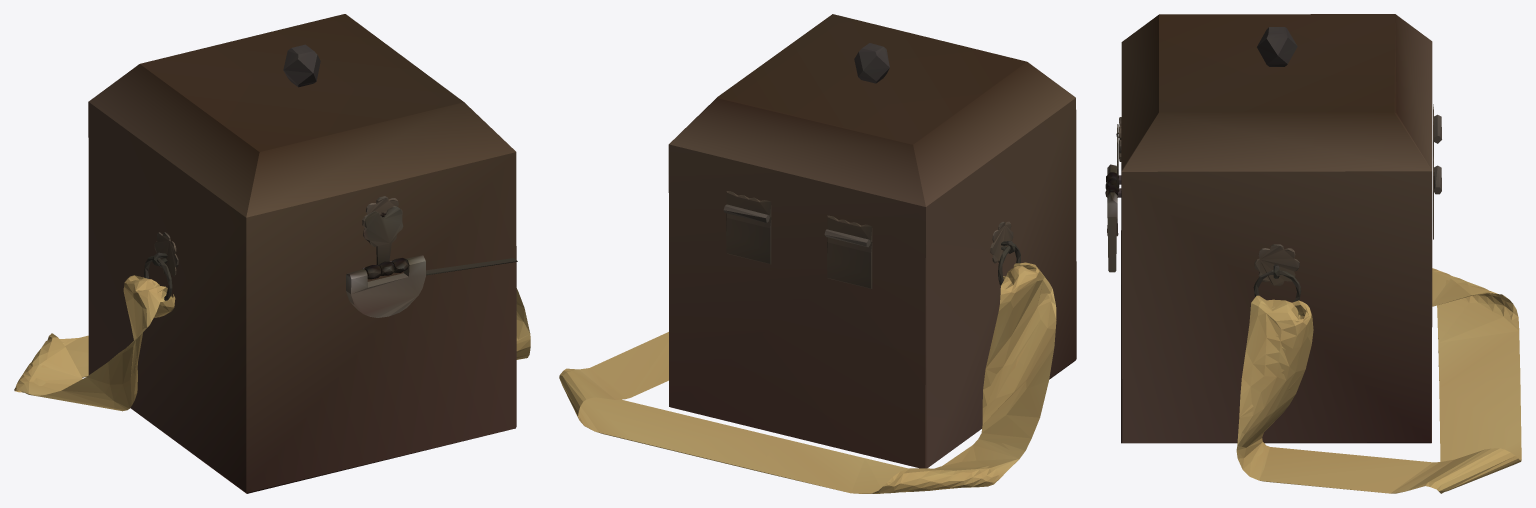
The model's file is gyeongbokgung_geunjeongjeon_royalsealbox_969ac244.glb.
3 renders of one model, left to right at view 1: azimuth 30°, elevation 25°; view 2: azimuth 150°, elevation 25°; view 3: azimuth 270°, elevation 25°, orthographic. The views are drawn at different scales.
Visible parts, largest first — view 1: SM_GJJ_Royalsealbox_M_GJJ_Royalsealbox01_0; view 2: SM_GJJ_Royalsealbox_M_GJJ_Royalsealbox01_0; view 3: SM_GJJ_Royalsealbox_M_GJJ_Royalsealbox01_0.
Boxes of the visible parts, x1=… form: SM_GJJ_Royalsealbox_M_GJJ_Royalsealbox01_0: x1=14, y1=14, x2=530, y2=493; SM_GJJ_Royalsealbox_M_GJJ_Royalsealbox01_0: x1=559, y1=14, x2=1076, y2=493; SM_GJJ_Royalsealbox_M_GJJ_Royalsealbox01_0: x1=1105, y1=14, x2=1521, y2=493.
Size of the model in its own units: 0.3631 by 0.2664 by 0.288.
